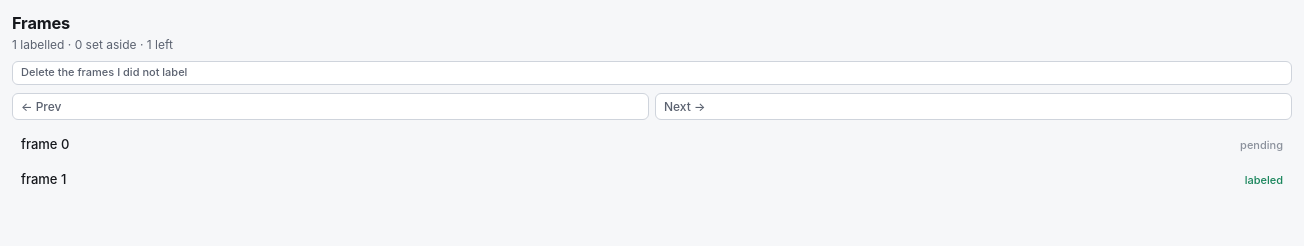
Scenario: Deleting the frames nobody labelled › says what it would take before taking it
Click the button "Delete the frames I did not label".
click(104, 72)  # box [12,61,1292,85]
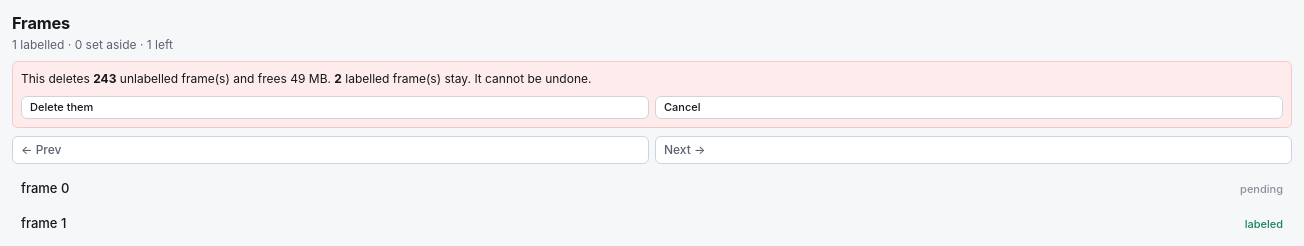
Now the message shows "243", box [93,71,116,86]
Now the message shows "49 MB", box [290,71,328,86]
